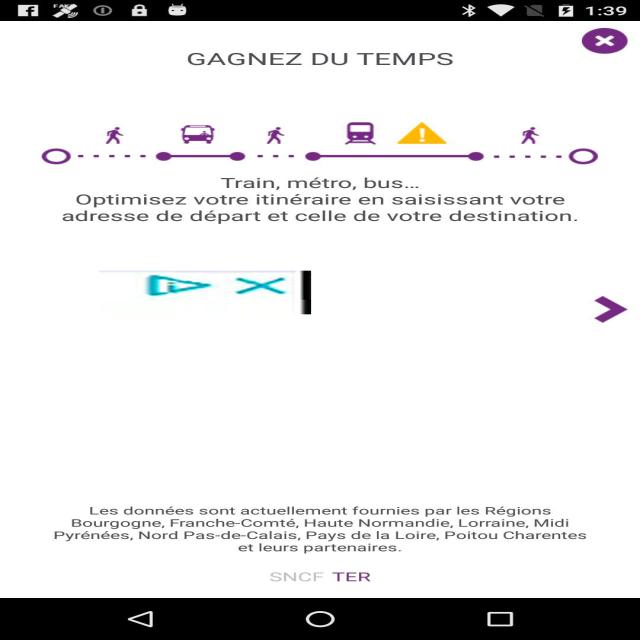sneaking: (99, 271, 311, 314)
